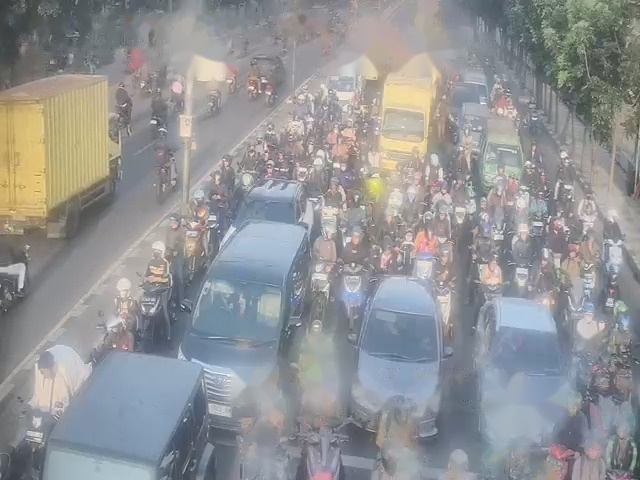Mobil: (47, 353, 214, 479), (204, 226, 311, 405), (363, 273, 443, 410), (478, 301, 555, 439), (482, 124, 522, 184)
Motor: (299, 433, 344, 480), (298, 358, 328, 411), (341, 258, 366, 318), (374, 451, 411, 480), (245, 437, 268, 480), (312, 261, 331, 308), (565, 282, 586, 323), (510, 258, 530, 297), (515, 219, 530, 262), (148, 284, 162, 329), (202, 208, 220, 243), (478, 222, 493, 262), (184, 219, 198, 261), (322, 202, 337, 241), (580, 266, 597, 295), (607, 240, 620, 276), (478, 270, 493, 300), (452, 207, 466, 238), (432, 229, 447, 256), (418, 251, 431, 280), (439, 282, 448, 323), (496, 92, 512, 115), (104, 314, 115, 346), (514, 189, 527, 216), (385, 193, 399, 217), (465, 186, 475, 219), (239, 166, 250, 193), (340, 222, 354, 243), (155, 164, 164, 196), (613, 460, 627, 480), (560, 180, 573, 201), (604, 296, 616, 316), (582, 212, 593, 233), (537, 212, 544, 239), (383, 245, 394, 262), (299, 161, 309, 179), (334, 156, 341, 176)
Truk: (0, 73, 112, 225), (381, 51, 437, 159)
